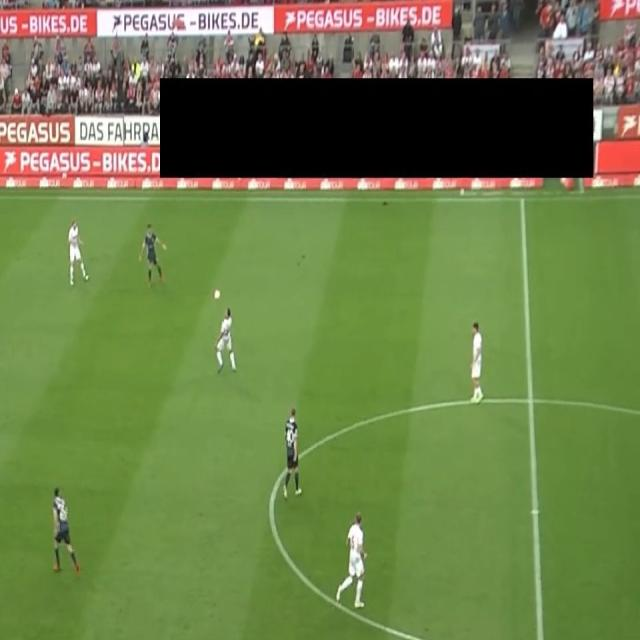ball: (214, 288, 222, 301)
